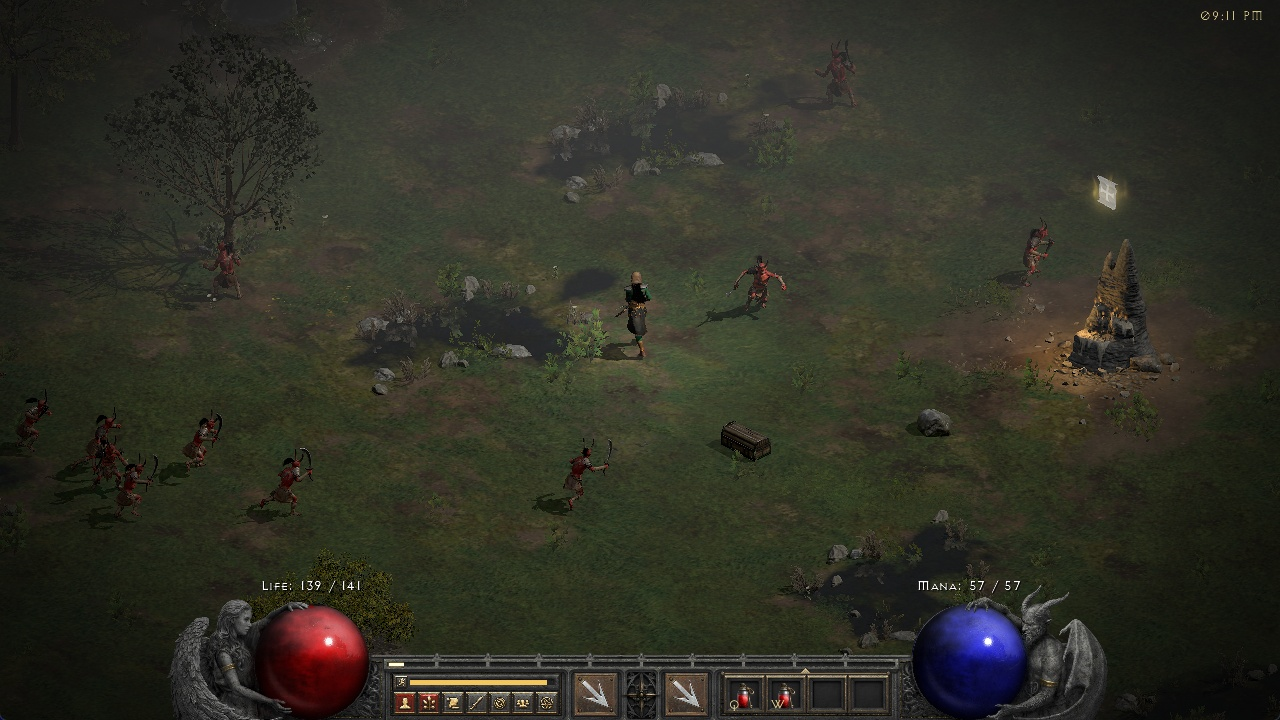fallen: (258, 442, 315, 516), (556, 434, 616, 504), (814, 42, 868, 111), (1009, 217, 1059, 288), (731, 253, 784, 309), (181, 408, 226, 468), (121, 452, 159, 517), (202, 238, 242, 299), (16, 394, 53, 456), (93, 408, 125, 441), (99, 444, 123, 481)
